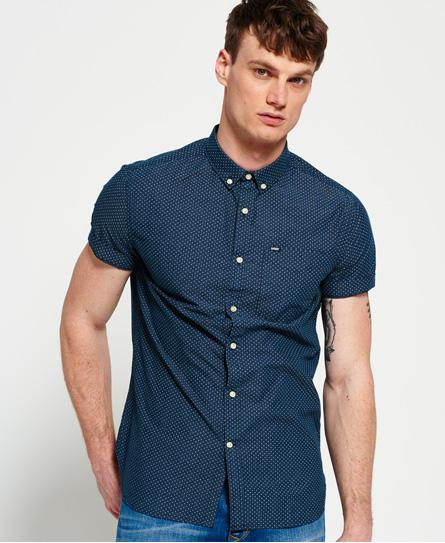teeshirt: (86, 120, 376, 533)
